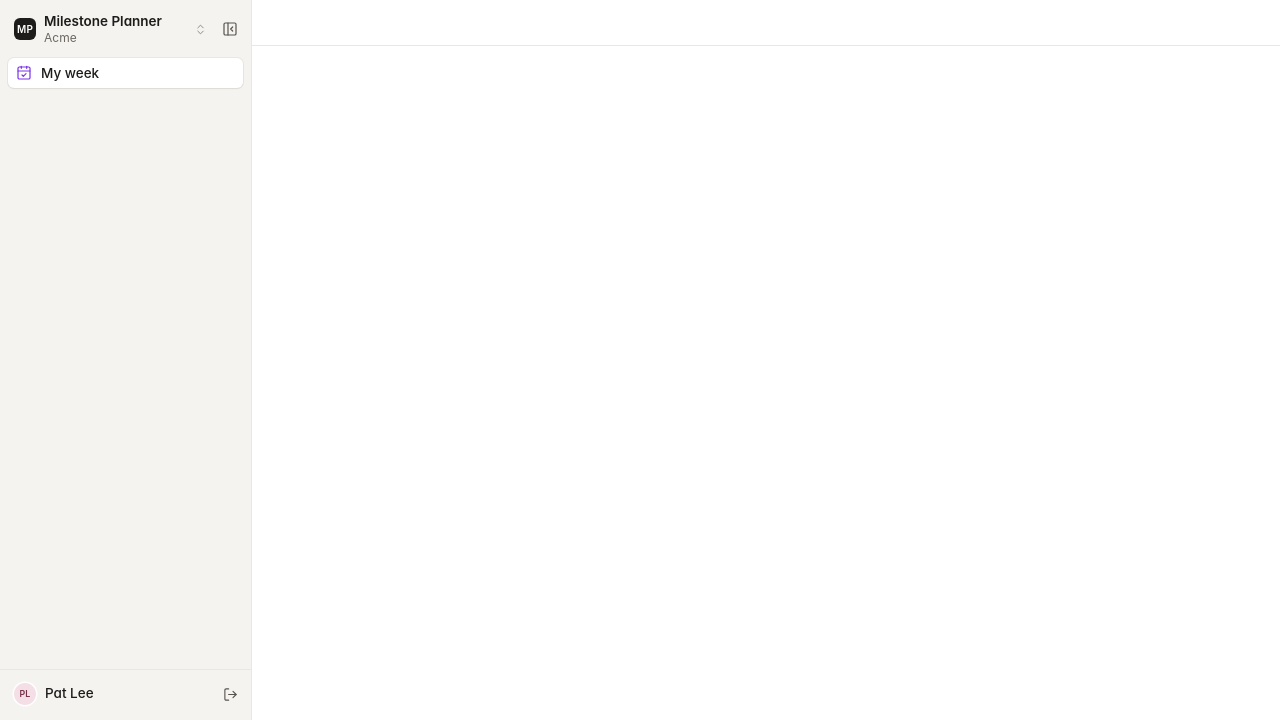
Test case: the workspace switcher › no connect row without `connect`
Step 1. Click the button with aria-label "Milestone Planner Acme, switch workspace" → (110, 29), box [8,8,213,50]
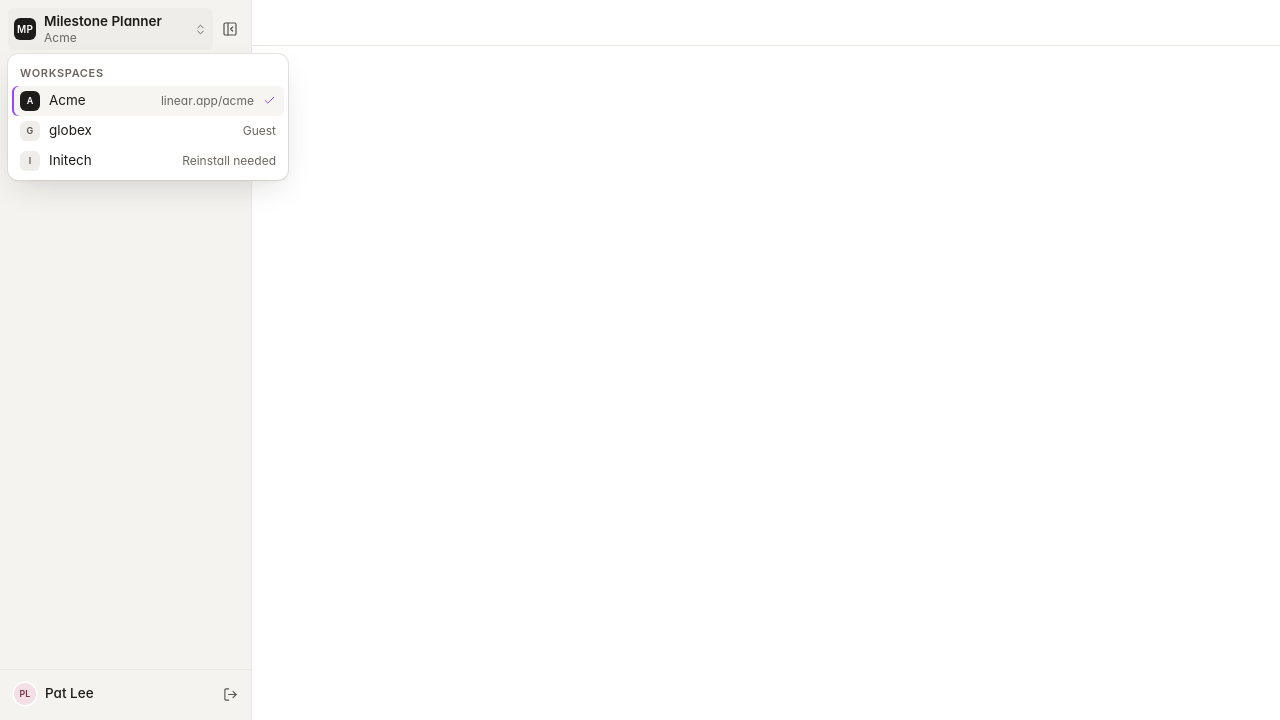
Now the number of options is 3, box [12,86,284,116]; [12,116,284,146]; [12,146,284,176]
